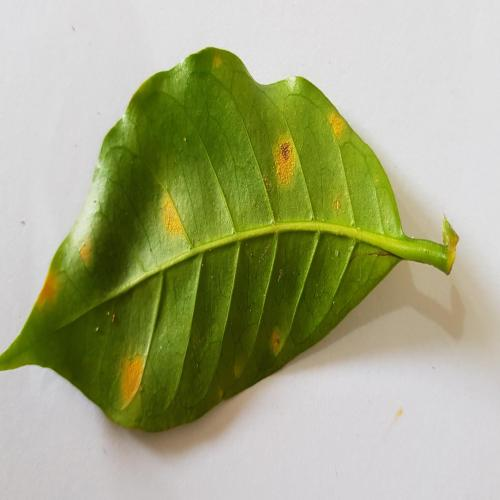phoma: (329, 113, 344, 136)
